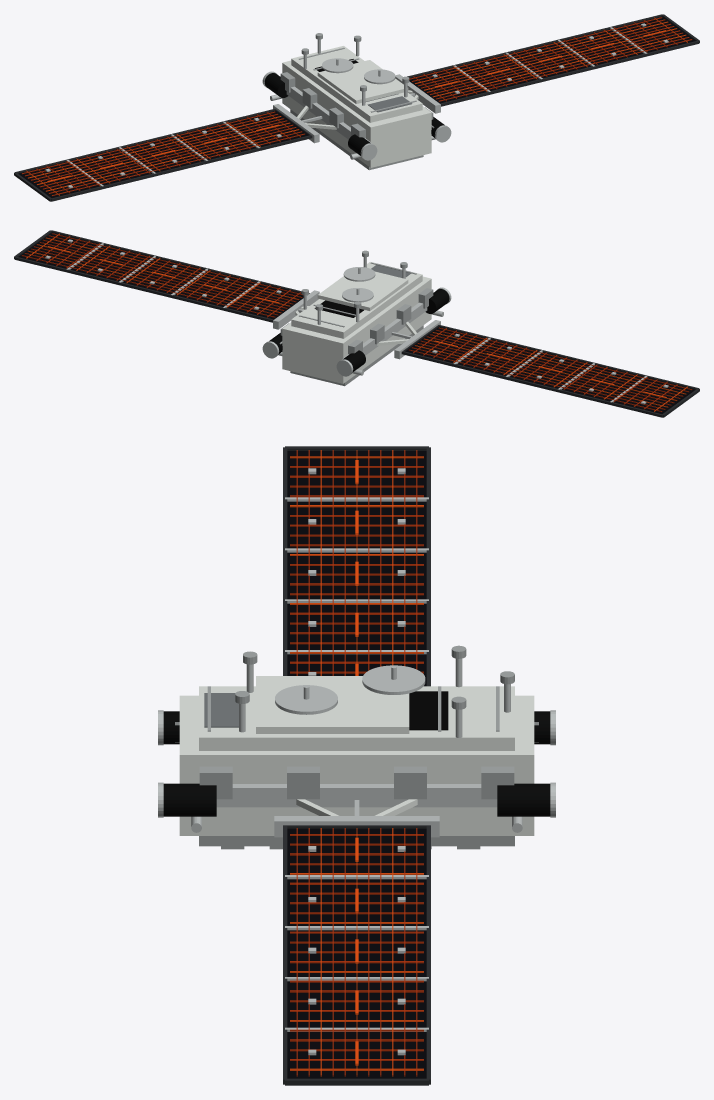
3 views of the same model, one above another, from view 1: azimuth 30°, elevation 25°; view 2: azimuth 150°, elevation 25°; view 3: azimuth 270°, elevation 25° (orthographic). The views are drawn at different scales.
Visible parts, largest first — view 1: SolarWingPanelBase_-1, SolarWingPanelBase_+1, MainBus_White_Rectangular_Core, RaisedTopEquipmentDeck, AntennaRecessBay, SolarWingOuterFrame2_-1, SolarWingOuterFrame2_+1, SolarWingOuterFrame_-1, SolarWingOuterFrame_+1, SideLongSilverRail_-0.8, SolarRootHinge_+1, SolarCellCrossGrid_-1_4 (+25 smaller); view 2: SolarWingPanelBase_-1, SolarWingPanelBase_+1, MainBus_White_Rectangular_Core, RaisedTopEquipmentDeck, AntennaRecessBay, SolarWingOuterFrame_-1, SolarWingOuterFrame_+1, SolarWingOuterFrame2_-1, SolarWingOuterFrame2_+1, SideLongSilverRail_-0.8, SolarRootHinge_+1, SolarCellCrossGrid_-1_5 (+25 smaller); view 3: SolarWingPanelBase_+1, SolarWingPanelBase_-1, MainBus_White_Rectangular_Core, RaisedTopEquipmentDeck, AntennaRecessBay, SideLongSilverRail_+0.8, SolarRootHinge_+1, BottomEquipmentRail, CornerBlackThruster_+0.9_-1.7, CornerBlackThruster_+0.9_+1.7, DishRim_-0.4, DishRim_+0.5 (+9 smaller).
Part boxes in pixels (<box>): SolarWingPanelBase_-1: <box>18,111,308,197</box>; SolarWingPanelBase_+1: <box>409,16,695,103</box>; MainBus_White_Rectangular_Core: <box>282,60,431,167</box>; RaisedTopEquipmentDeck: <box>291,46,422,122</box>; AntennaRecessBay: <box>317,60,408,103</box>; SolarWingOuterFrame2_-1: <box>51,135,312,201</box>; SolarWingOuterFrame2_+1: <box>440,40,699,106</box>; SolarWingOuterFrame_-1: <box>15,109,275,173</box>; SolarWingOuterFrame_+1: <box>407,14,662,77</box>; SideLongSilverRail_-0.8: <box>280,76,371,142</box>; SolarRootHinge_+1: <box>395,74,440,113</box>; SolarCellCrossGrid_-1_4: <box>30,118,284,180</box>; SolarWingPanelBase_-1: <box>405,327,695,413</box>; SolarWingPanelBase_+1: <box>18,232,303,319</box>; MainBus_White_Rectangular_Core: <box>282,276,431,383</box>; RaisedTopEquipmentDeck: <box>291,262,422,338</box>; AntennaRecessBay: <box>317,271,408,310</box>; SolarWingOuterFrame_-1: <box>401,351,662,417</box>; SolarWingOuterFrame_+1: <box>14,256,273,322</box>; SolarWingOuterFrame2_-1: <box>438,325,698,389</box>; SolarWingOuterFrame2_+1: <box>51,230,309,293</box>; SideLongSilverRail_-0.8: <box>342,292,433,358</box>; SolarRootHinge_+1: <box>273,290,319,329</box>; SolarCellCrossGrid_-1_5: <box>420,340,674,403</box>; SolarWingPanelBase_+1: <box>287,828,426,1078</box>; SolarWingPanelBase_-1: <box>287,451,426,686</box>; MainBus_White_Rectangular_Core: <box>179,695,534,835</box>; RaisedTopEquipmentDeck: <box>199,686,514,750</box>; AntennaRecessBay: <box>256,676,409,733</box>; SideLongSilverRail_+0.8: <box>216,784,497,807</box>; SolarRootHinge_+1: <box>274,816,439,837</box>; BottomEquipmentRail: <box>199,836,514,846</box>; CornerBlackThruster_+0.9_-1.7: <box>497,783,550,816</box>; CornerBlackThruster_+0.9_+1.7: <box>163,783,216,816</box>; DishRim_-0.4: <box>362,665,425,694</box>; DishRim_+0.5: <box>275,685,337,714</box>.
Size of the model in its own units: 15.45 by 1.76 by 4.1.
